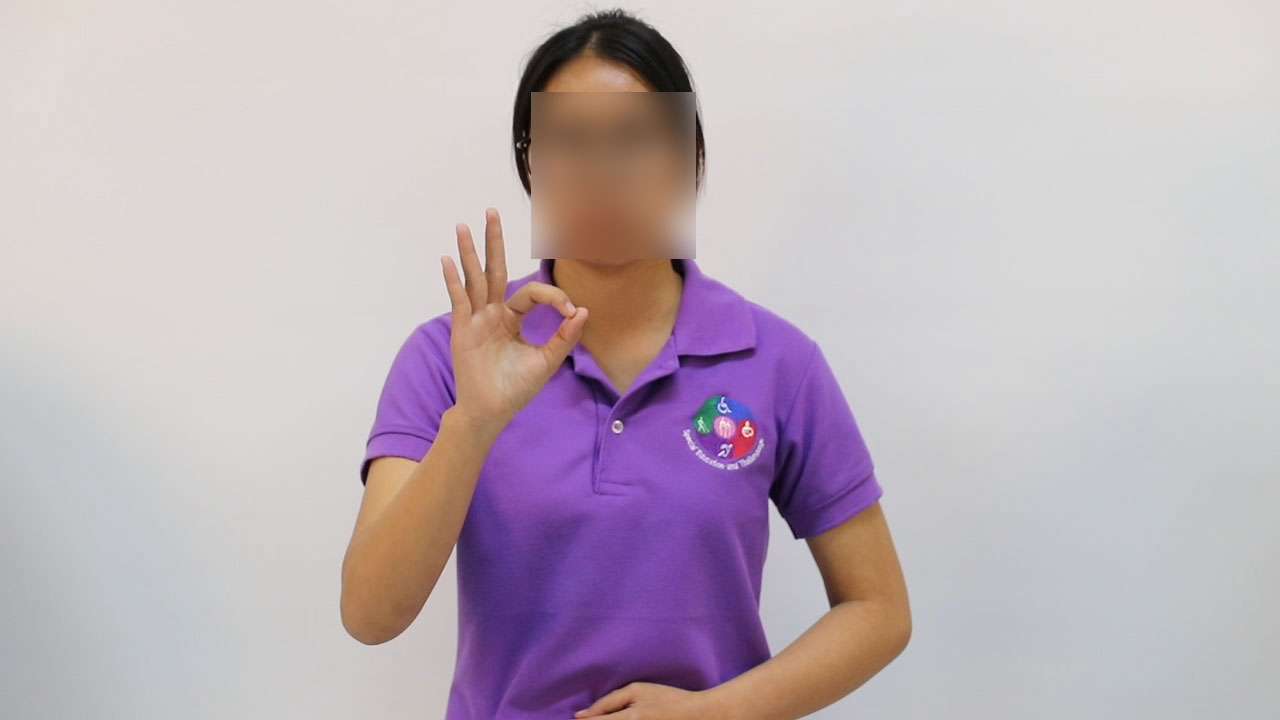for: (421, 199, 593, 435)
